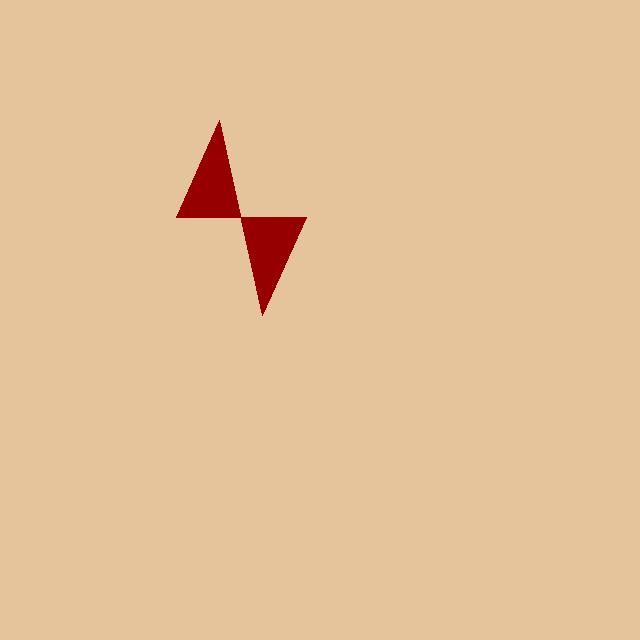laceration: (176, 120, 306, 315)
